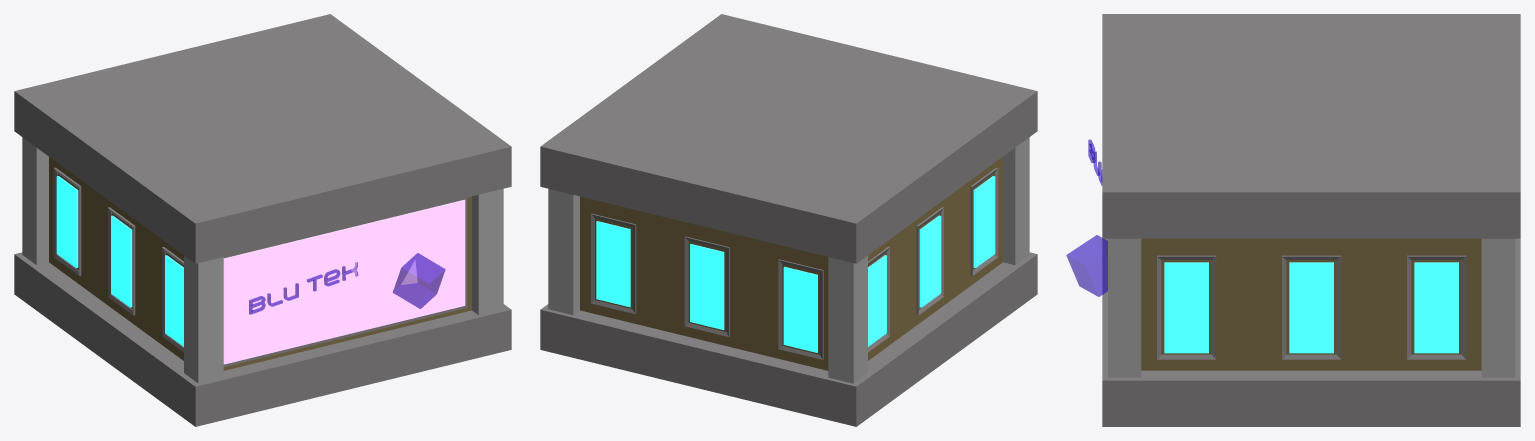
The picture shows the model from 3 angles, left to right: view 1: azimuth 30°, elevation 25°; view 2: azimuth 150°, elevation 25°; view 3: azimuth 270°, elevation 25°; orthographic projection. The views are drawn at different scales.
Visible parts, largest first — view 1: Cube.014, Cube.005, Cube.013, Cube.002, Cube.016, Cube.015, Cube.017, Cube.012, Cube.010, Cube.011, Cube.006, Cube.004 (+1 smaller); view 2: Cube.014, Cube.002, Cube.013, Cube.017, Cube.001, Cube, Cube.003, Cube.018, Cube.016, Cube.011, Cube.010, Cube.012; view 3: Cube.014, Cube.002, Cube.013, Cube.008, Cube.009, Cube.007, Cube.018, Cube.015, Cube.006.
Boxes of the visible parts, x1=… form: Cube.014: x1=14, y1=14, x2=511, y2=263; Cube.005: x1=223, y1=199, x2=465, y2=364; Cube.013: x1=14, y1=252, x2=511, y2=426; Cube.002: x1=49, y1=157, x2=471, y2=370; Cube.016: x1=184, y1=255, x2=223, y2=383; Cube.015: x1=472, y1=188, x2=503, y2=315; Cube.017: x1=22, y1=137, x2=48, y2=264; Cube.012: x1=53, y1=167, x2=81, y2=275; Cube.010: x1=108, y1=207, x2=135, y2=315; Cube.011: x1=162, y1=247, x2=183, y2=352; Cube.006: x1=392, y1=253, x2=445, y2=308; Cube.004: x1=223, y1=197, x2=467, y2=367; Cube.014: x1=540, y1=14, x2=1037, y2=263; Cube.002: x1=580, y1=157, x2=1002, y2=370; Cube.013: x1=540, y1=252, x2=1037, y2=426; Cube.017: x1=828, y1=255, x2=867, y2=383; Cube.001: x1=778, y1=259, x2=823, y2=359; Cube: x1=591, y1=213, x2=636, y2=314; Cube.003: x1=684, y1=236, x2=729, y2=336; Cube.018: x1=548, y1=188, x2=579, y2=315; Cube.016: x1=1003, y1=137, x2=1029, y2=264; Cube.011: x1=970, y1=167, x2=998, y2=275; Cube.010: x1=916, y1=207, x2=943, y2=315; Cube.012: x1=868, y1=247, x2=889, y2=352; Cube.014: x1=1102, y1=14, x2=1520, y2=238; Cube.002: x1=1141, y1=238, x2=1481, y2=370; Cube.013: x1=1102, y1=238, x2=1520, y2=426; Cube.008: x1=1407, y1=255, x2=1466, y2=359; Cube.009: x1=1282, y1=255, x2=1341, y2=359; Cube.007: x1=1157, y1=255, x2=1216, y2=359; Cube.018: x1=1481, y1=238, x2=1515, y2=377; Cube.015: x1=1108, y1=238, x2=1141, y2=377; Cube.006: x1=1066, y1=235, x2=1107, y2=296.
Size of the model in its own units: 13.28 by 8.16 by 14.32.
